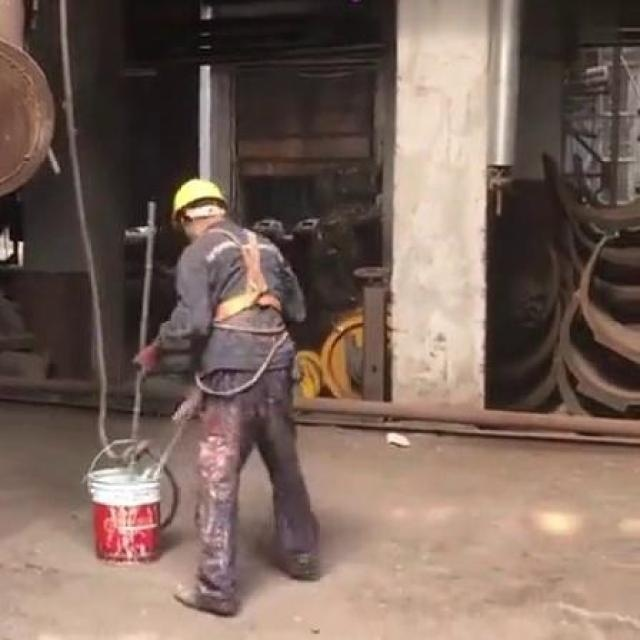Arnes_seguridad: (193, 221, 288, 325)
